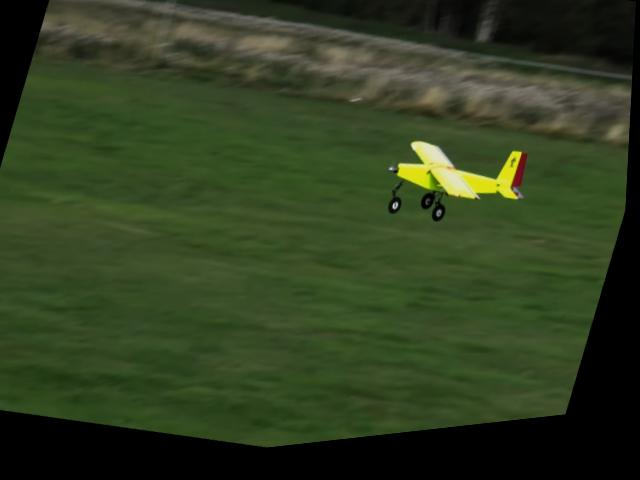plane: (376, 132, 540, 259)
